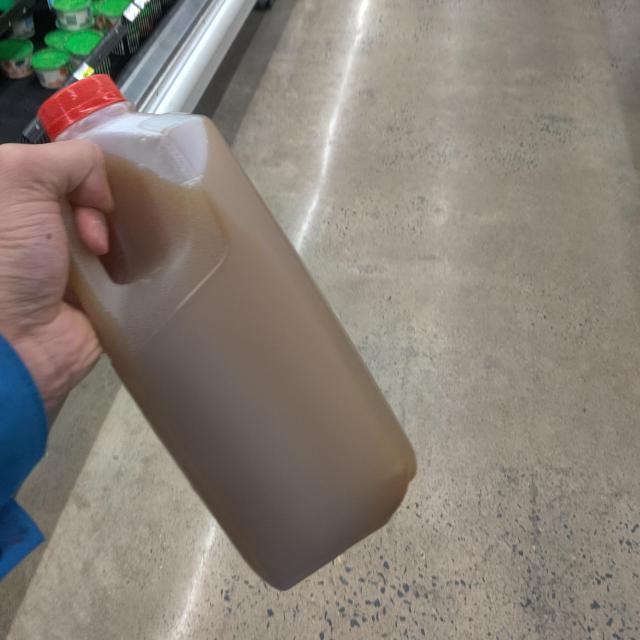Juice: (41, 75, 421, 591)
